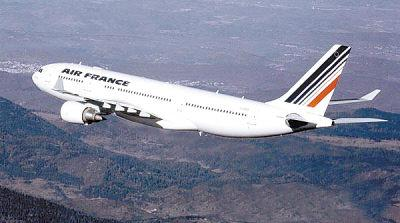airplane: (31, 44, 391, 142)
